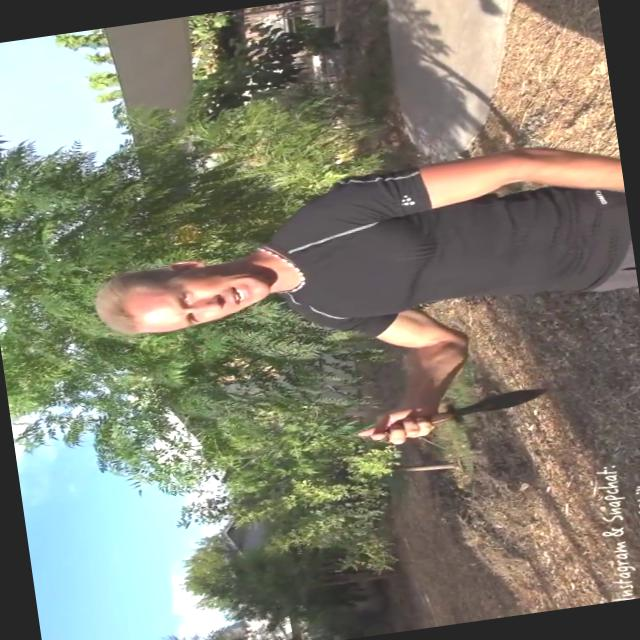knife: (366, 376, 548, 448)
